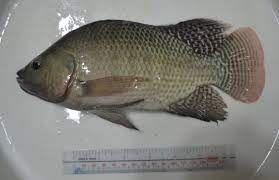Tilapia: (16, 18, 265, 130)
